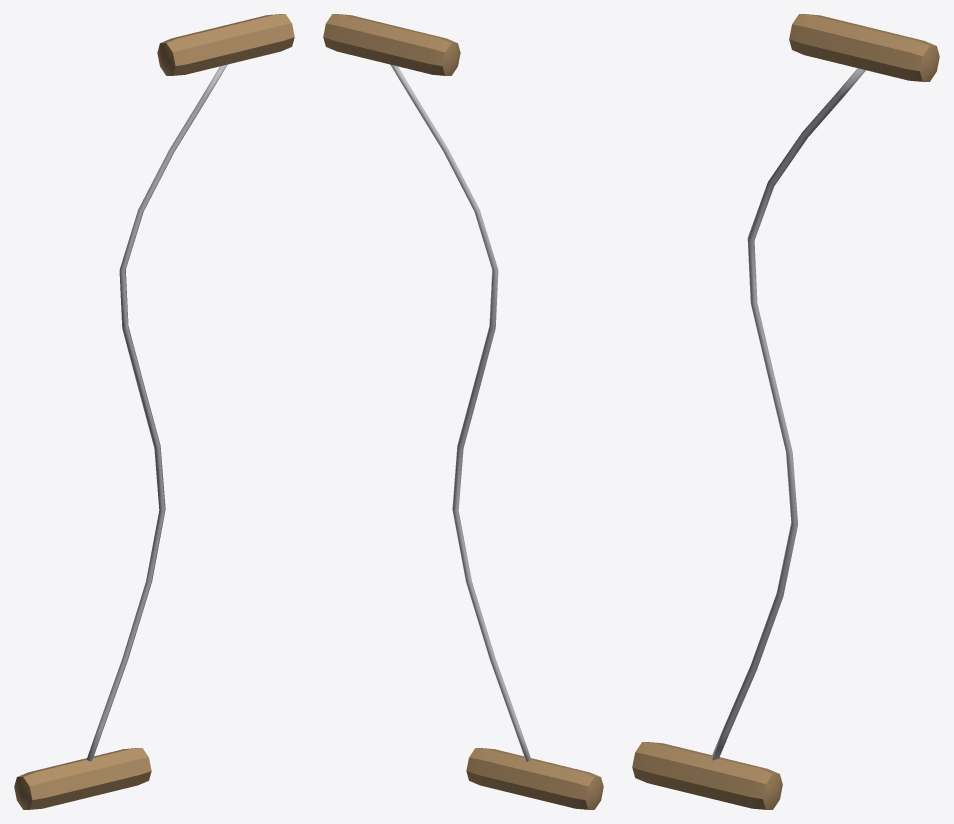
Rendered from garrote.glb.
The picture shows the model from 3 angles, left to right: view 1: azimuth 30°, elevation 25°; view 2: azimuth 150°, elevation 25°; view 3: azimuth 330°, elevation 25°; orthographic projection. The views are drawn at different scales.
Visible parts, largest first — view 1: garrote; view 2: garrote; view 3: garrote.
Part boxes in pixels (x1=…): garrote: x1=14, y1=14, x2=294, y2=809; garrote: x1=323, y1=14, x2=603, y2=809; garrote: x1=632, y1=14, x2=939, y2=809.
Size of the model in its own units: 0.34 by 0.884 by 0.044.
